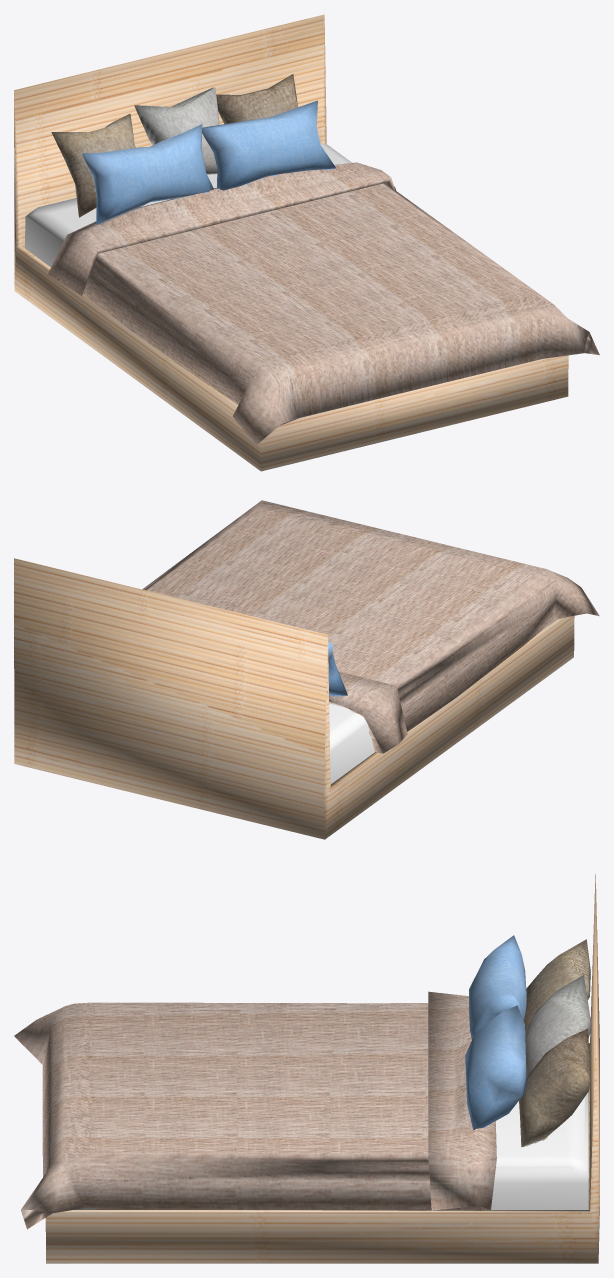
The model's file is int_105.fbx.
The picture shows the model from 3 angles, top to bottom: view 1: azimuth 30°, elevation 25°; view 2: azimuth 150°, elevation 25°; view 3: azimuth 270°, elevation 25°; orthographic projection. The views are drawn at different scales.
Parts seen in each view (by area): view 1: cama.001; view 2: cama.001; view 3: cama.001.
Part boxes in pixels (bbox=[...]): cama.001: bbox=[14, 14, 599, 471]; cama.001: bbox=[14, 500, 599, 839]; cama.001: bbox=[14, 873, 599, 1263].
Bounding box in the file's own units: 240 × 132 × 309.
1 material, 1 textured.
